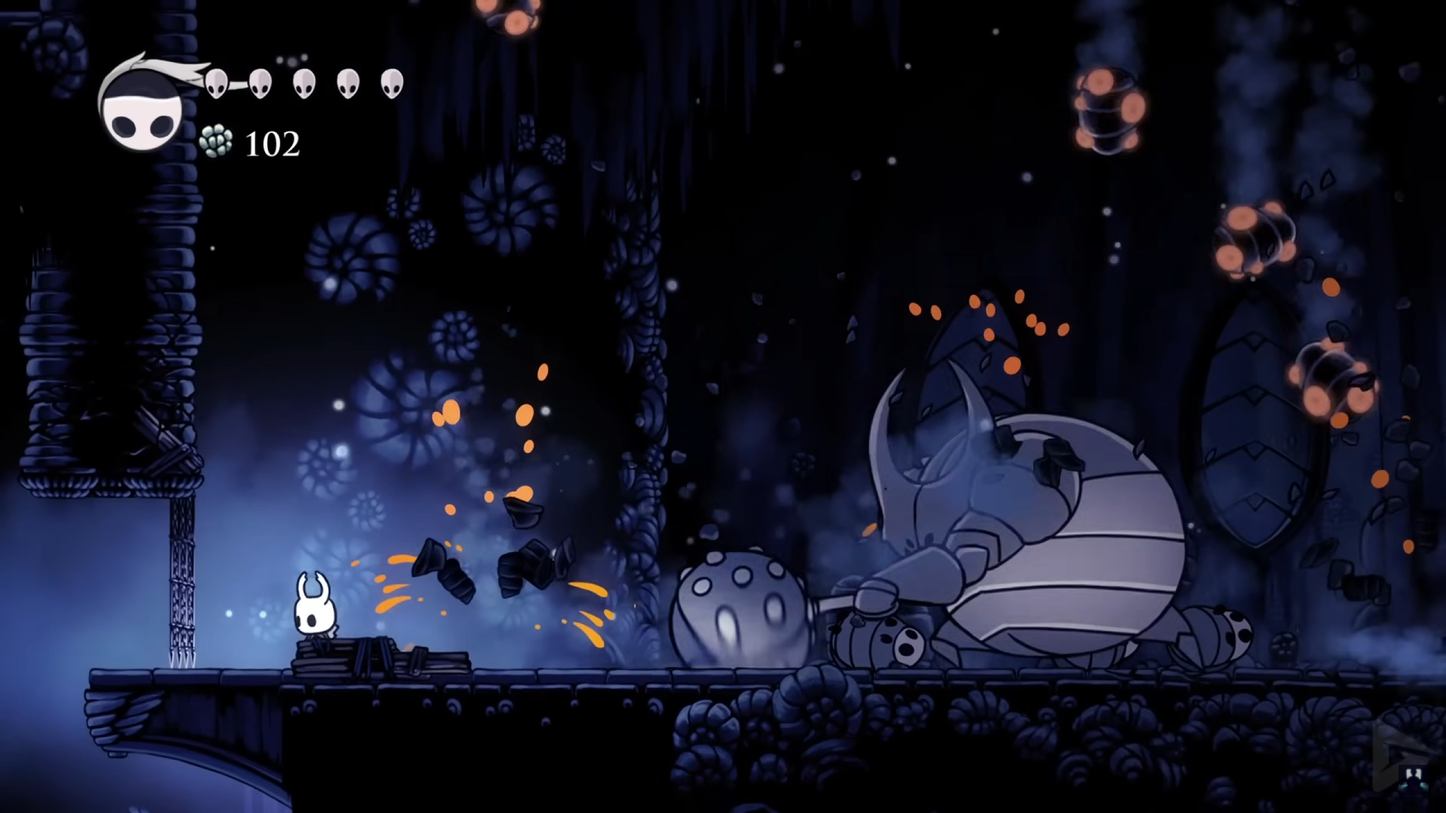HK: (288, 569, 345, 665)
